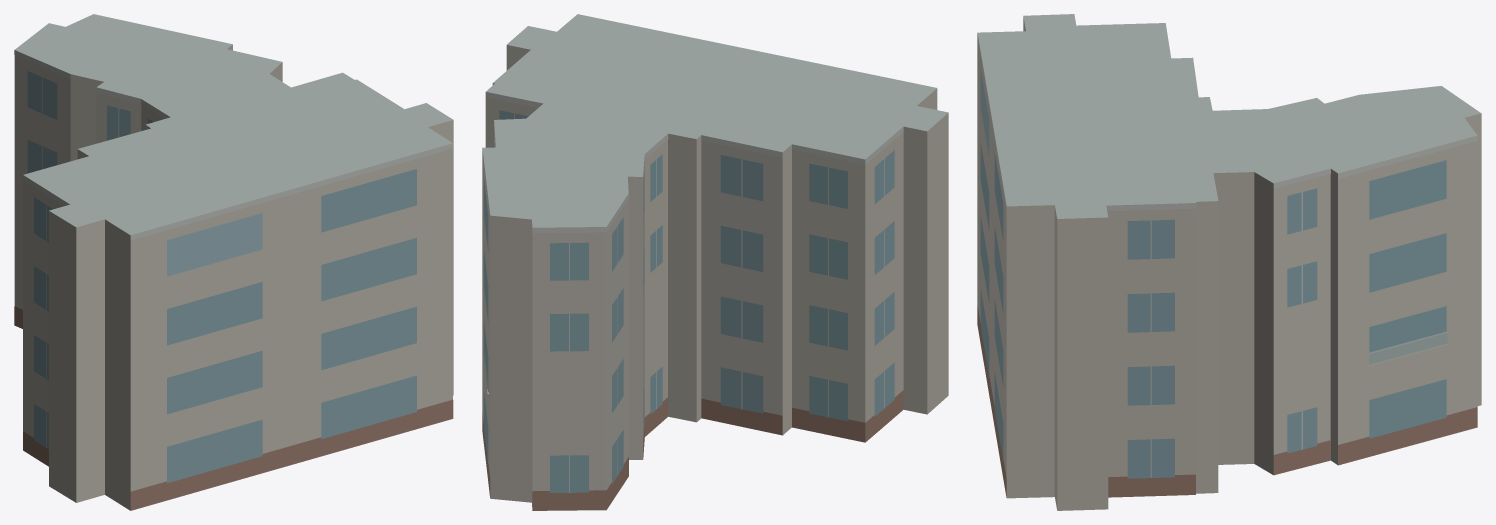
The model's file is survey-upis-32613446.glb.
3 views of the same model, side by side, from view 1: azimuth 30°, elevation 25°; view 2: azimuth 150°, elevation 25°; view 3: azimuth 270°, elevation 25° (orthographic). The views are drawn at different scales.
Parts seen in each view (by area): view 1: survey-upis-32613446.tmp; view 2: survey-upis-32613446.tmp; view 3: survey-upis-32613446.tmp.
Part boxes in pixels (<box>): survey-upis-32613446.tmp: <box>14,14,453,510</box>; survey-upis-32613446.tmp: <box>482,14,948,510</box>; survey-upis-32613446.tmp: <box>977,14,1481,510</box>.
Size of the model in its own units: 19.43 by 12.9 by 20.2.
